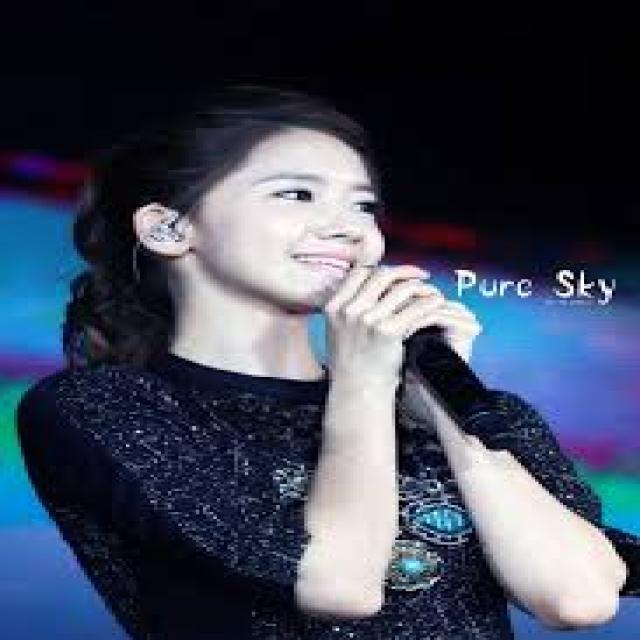earphone: (128, 210, 200, 255)
